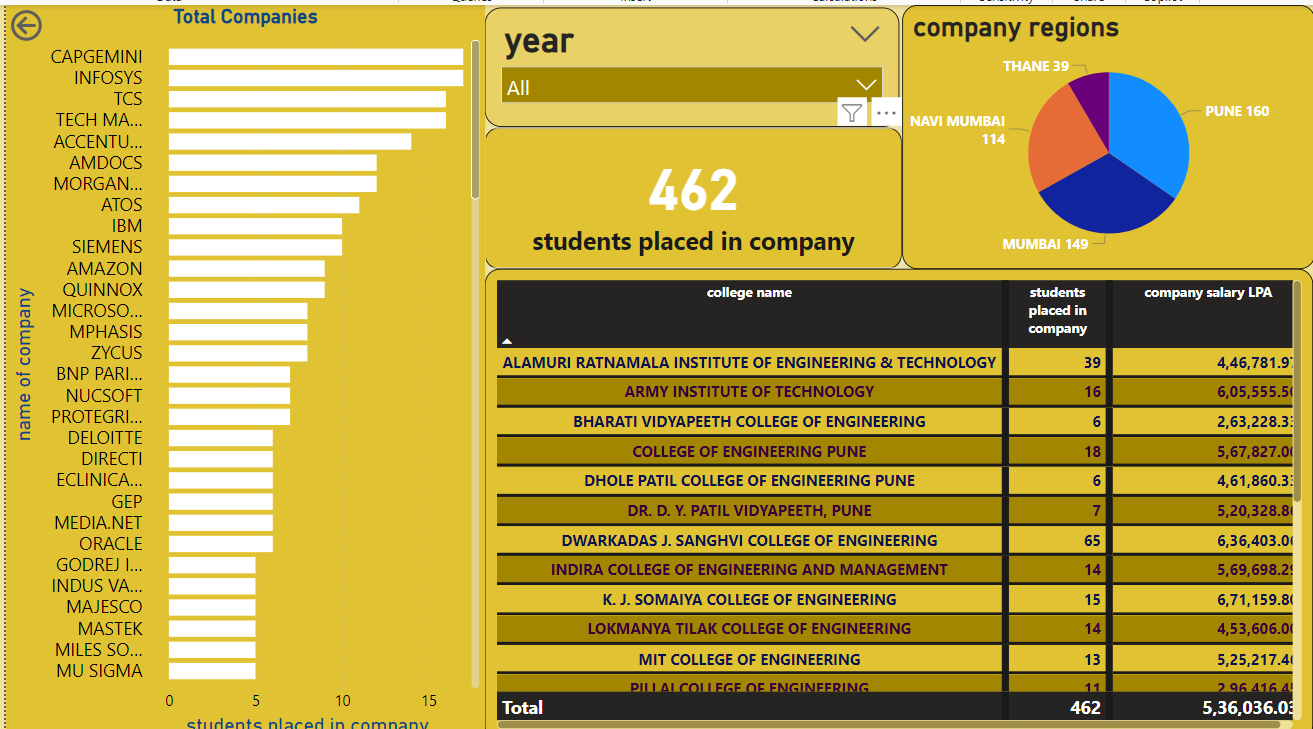

This screenshot's page, from the dashboard's own definition file:
{"tool":"powerbi","page":{"name":"Page 1","canvas":[1280,720],"ordinal":0},"visuals":[{"type":"slicer","fields":{"Values":["detailed_data.year"]},"box":[468.5,2.7,405.2,117.1],"z":0},{"type":"card","fields":{"Values":["detailed_data.NumberOfPeople"]},"box":[468.5,119.8,407.9,138.7],"z":1},{"type":"tableEx","fields":{"Values":["detailed_data.college name","detailed_data.NumberOfPeople","detailed_data.company salary LPA"]},"box":[468.5,258.5,810.4,461.8],"z":2},{"type":"barChart","title":"Total Companies","fields":{"Category":["detailed_data.name of company"],"Y":["detailed_data.NumberOfPeople"]},"box":[0,0,468.5,720.2],"z":3},{"type":"actionButton","box":[0,0,100,40],"z":4},{"type":"pieChart","title":"company regions","fields":{"Category":["detailed_data.region"],"Y":["CountNonNull(detailed_data.name of company)"]},"box":[876.4,0,403.9,258.5],"z":5}]}

Visuals, with their boxes in screenshot pixels (x1, y1, x2, y2), scaled from the page's 1280x720 canvas onto the 1313x729 screenshot:
slicer - detailed_data.year: bbox=[481, 3, 896, 121]
card - detailed_data.NumberOfPeople: bbox=[481, 121, 899, 262]
tableEx - detailed_data.college name x detailed_data.NumberOfPeople: bbox=[481, 262, 1312, 728]
"Total Companies" barChart: bbox=[0, 0, 481, 728]
actionButton: bbox=[0, 0, 103, 40]
"company regions" pieChart: bbox=[899, 0, 1312, 262]
